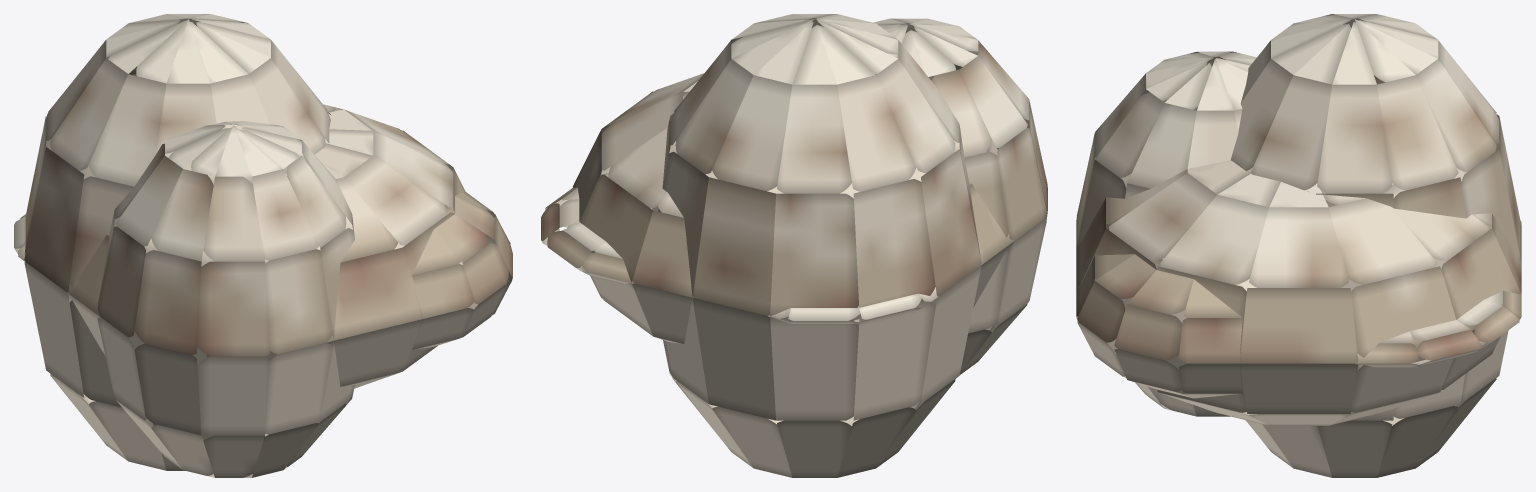
Rendered from Pumice.fbx.
3 renders of one model, left to right at view 1: azimuth 30°, elevation 25°; view 2: azimuth 150°, elevation 25°; view 3: azimuth 270°, elevation 25°, orthographic.
Visible parts, largest first — view 1: sphere_1, sphere_2, sphere, sphere_5; view 2: sphere_2, sphere, sphere_1, sphere_3, sphere_4; view 3: sphere, sphere_2, sphere_1, sphere_5, sphere_3.
Part boxes in pixels (<box>): sphere_1: <box>97,121,354,477</box>; sphere_2: <box>24,14,330,470</box>; sphere: <box>67,104,465,388</box>; sphere_5: <box>394,191,512,349</box>; sphere_2: <box>652,14,981,477</box>; sphere: <box>572,73,1014,343</box>; sphere_1: <box>873,18,1047,374</box>; sphere_3: <box>541,173,652,284</box>; sphere_4: <box>768,287,937,325</box>; sphere: <box>1076,160,1521,425</box>; sphere_2: <box>1230,14,1521,477</box>; sphere_1: <box>1076,51,1256,416</box>; sphere_5: <box>1076,254,1341,398</box>; sphere_3: <box>1355,291,1521,368</box>.
Bounding box in the file's own units: 100 × 112 × 100.
1 material, 1 textured.
